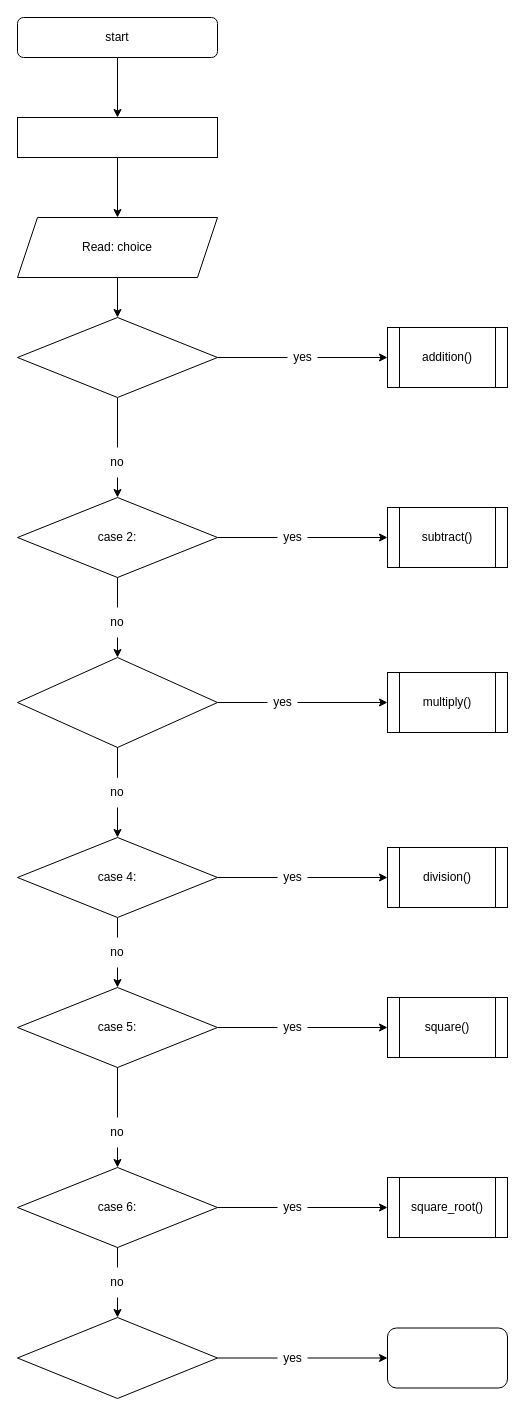
Image size: 525x1416. Some labels were removed from this diagram. The centre of each missing label's shape, as x and y in pixels:
"case 1:" belongs at [117,357].
"case 3:" belongs at [117,702].
"Default:" belongs at [117,1357].
"Read a, Read b" belongs at [117,137].
"stop" belongs at [447,1357].
